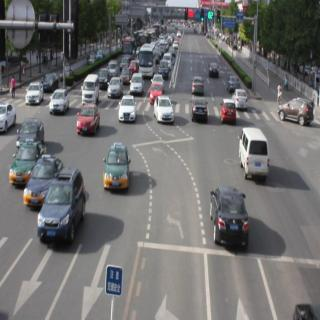BigCar: (134, 39, 157, 80)
Car: (40, 166, 88, 248), (206, 185, 252, 248), (24, 152, 61, 209), (236, 128, 271, 178), (103, 140, 132, 194), (278, 92, 314, 131), (10, 139, 39, 187), (75, 98, 101, 138), (80, 67, 102, 110), (17, 114, 43, 150), (153, 92, 177, 128), (115, 88, 137, 126), (215, 94, 237, 124), (49, 86, 69, 118), (25, 75, 43, 109), (186, 71, 208, 98), (188, 99, 210, 126), (106, 79, 122, 101), (205, 59, 220, 82), (235, 86, 248, 110), (226, 77, 243, 94)
